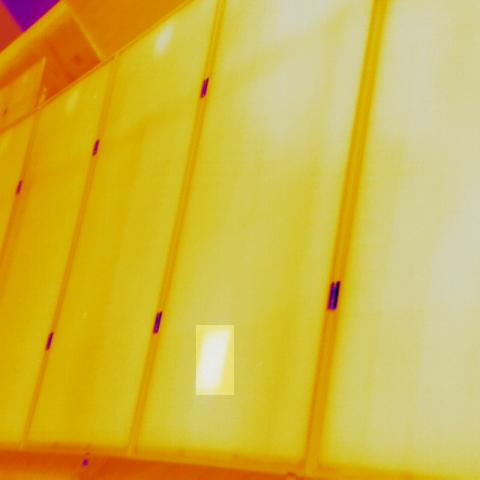fault: (196, 325, 234, 395)
